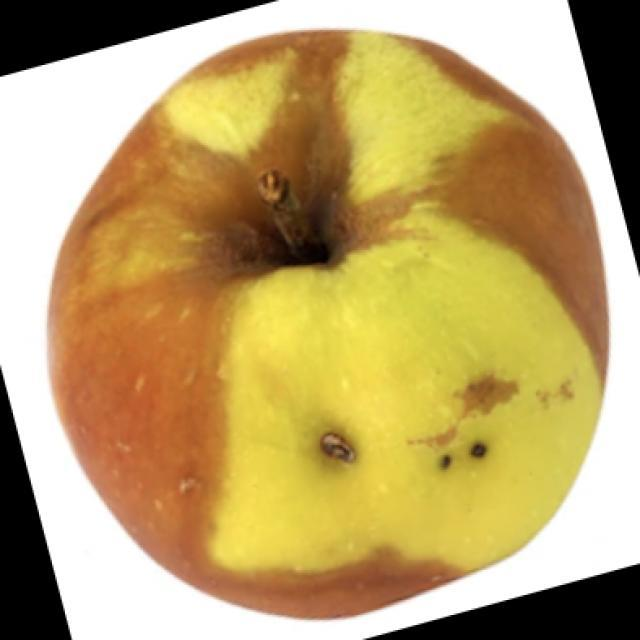Rotten: (43, 23, 600, 625)
